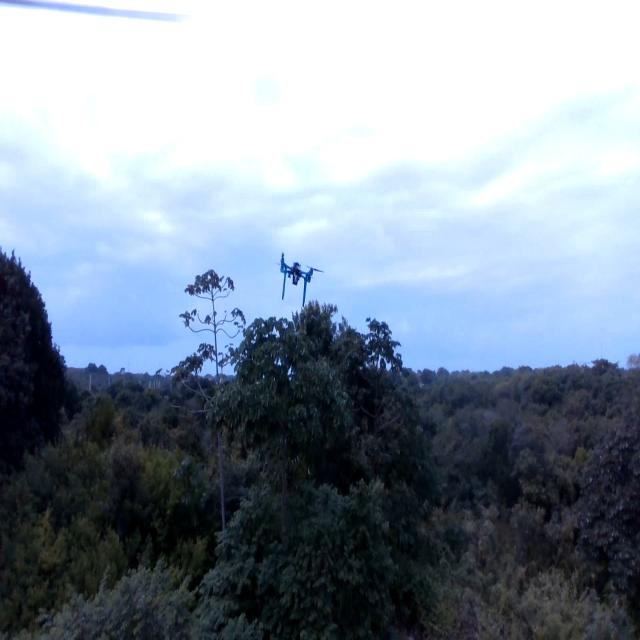-uav-: (272, 239, 332, 320)
